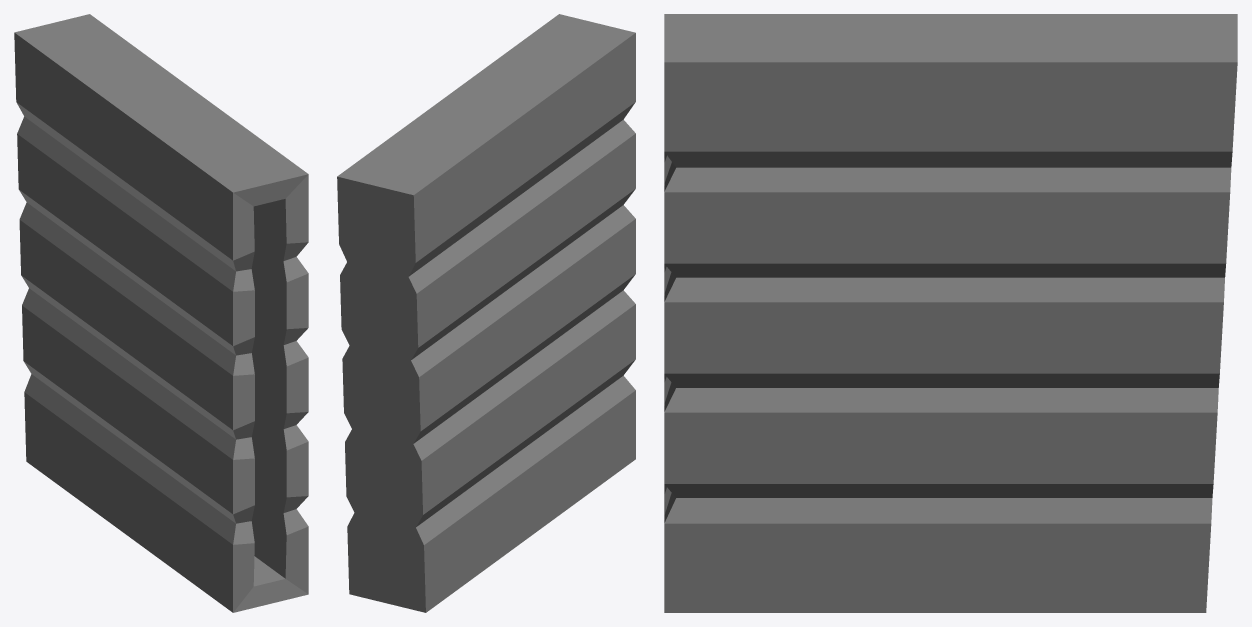
Rendered from SniperMag.glb.
The picture shows the model from 3 angles, left to right: view 1: azimuth 30°, elevation 25°; view 2: azimuth 150°, elevation 25°; view 3: azimuth 270°, elevation 25°; orthographic projection. The views are drawn at different scales.
Parts seen in each view (by area): view 1: SniperMag; view 2: SniperMag; view 3: SniperMag.
Part boxes in pixels (x1,y1,x2,y2): SniperMag: (14,14,308,612); SniperMag: (337,14,635,612); SniperMag: (664,14,1237,612).
Size of the model in its own units: 0.0191 by 0.1015 by 0.0958.
1 material, 1 textured.
